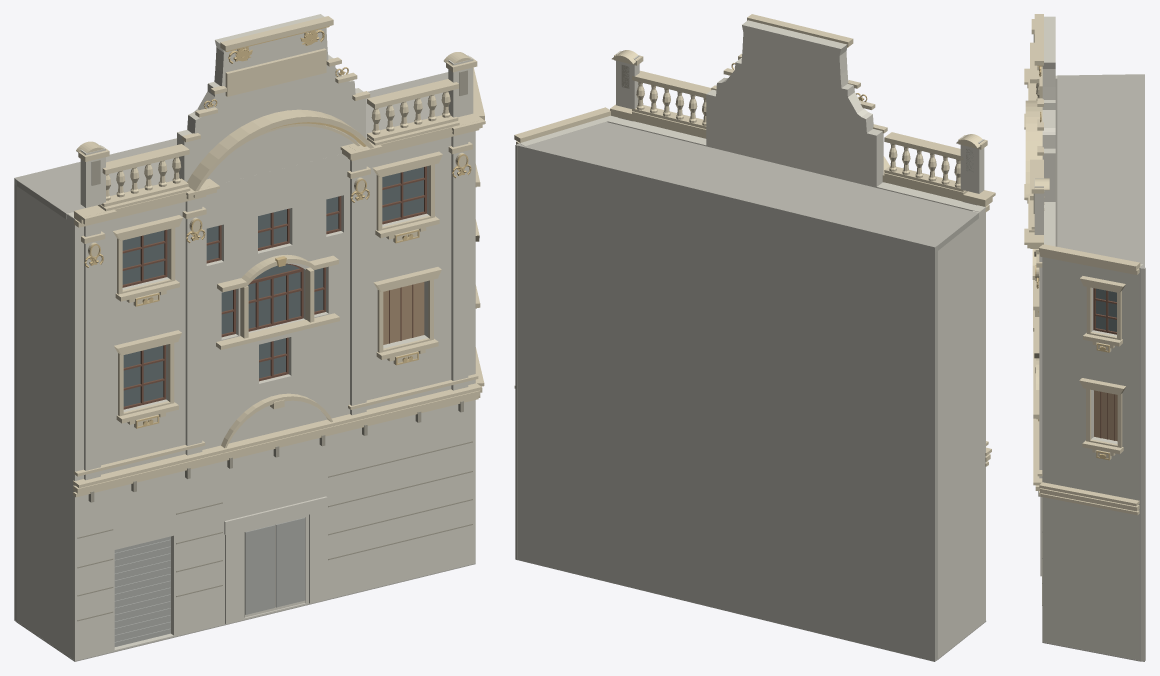
File: huangpu-renji-silversmith-east-front-lod.glb
3 renders of one model, left to right at view 1: azimuth 30°, elevation 25°; view 2: azimuth 150°, elevation 25°; view 3: azimuth 270°, elevation 25°, orthographic. The views are drawn at different scales.
Parts seen in each view (by area): view 1: 仁记珠宝银楼中华路东立面; view 2: 仁记珠宝银楼中华路东立面; view 3: 仁记珠宝银楼中华路东立面.
Boxes of the visible parts, <box> form: 仁记珠宝银楼中华路东立面: <box>14,14,485,661</box>; 仁记珠宝银楼中华路东立面: <box>514,14,995,661</box>; 仁记珠宝银楼中华路东立面: <box>1024,14,1145,661</box>.
Size of the model in its own units: 13.2 by 16.19 by 3.43.
